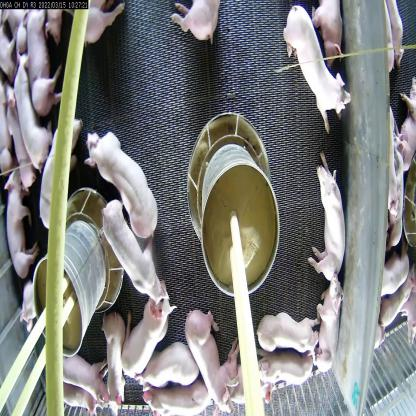Pig: (93, 182, 170, 301), (282, 0, 352, 129), (81, 134, 167, 236), (110, 267, 178, 384), (305, 136, 353, 284), (186, 314, 236, 416), (98, 297, 140, 415), (42, 106, 82, 229), (10, 43, 47, 170), (135, 340, 198, 413), (143, 353, 215, 416), (54, 345, 127, 402), (4, 168, 34, 284), (254, 348, 321, 398), (317, 261, 344, 382), (260, 310, 322, 361)
